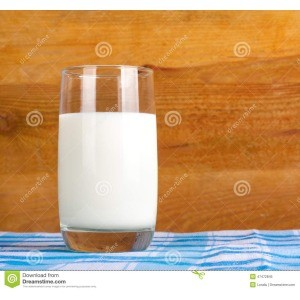milk_brain food: (56, 108, 160, 237)
